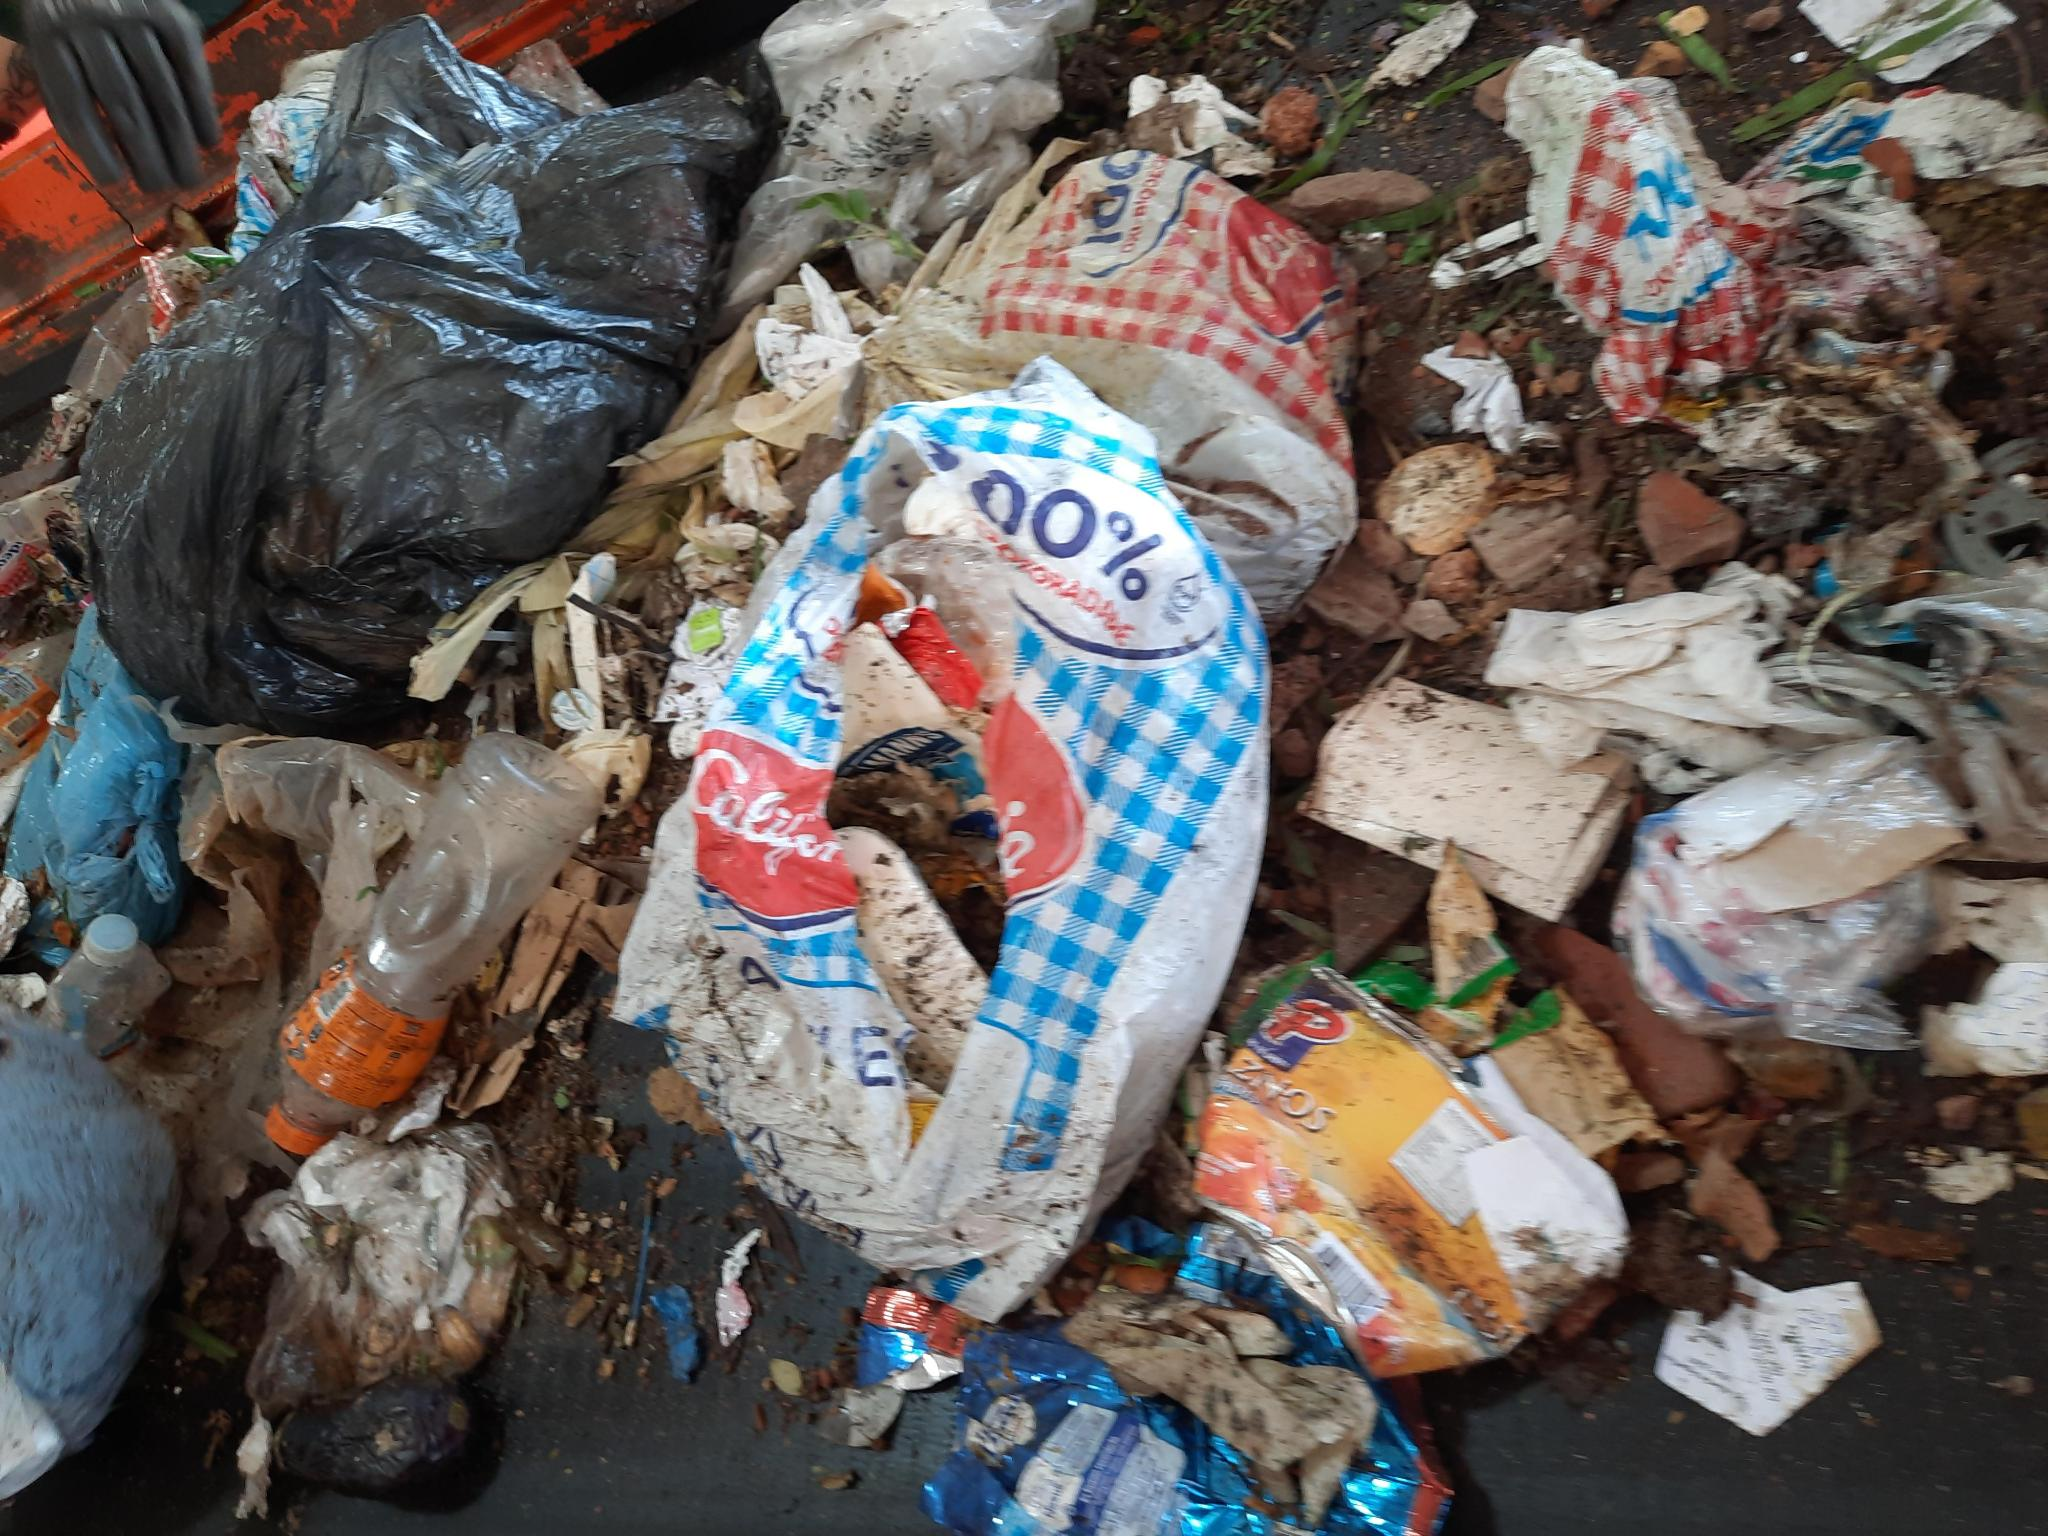bottle: (248, 723, 614, 1137), (40, 912, 173, 1041), (3, 624, 92, 774)
